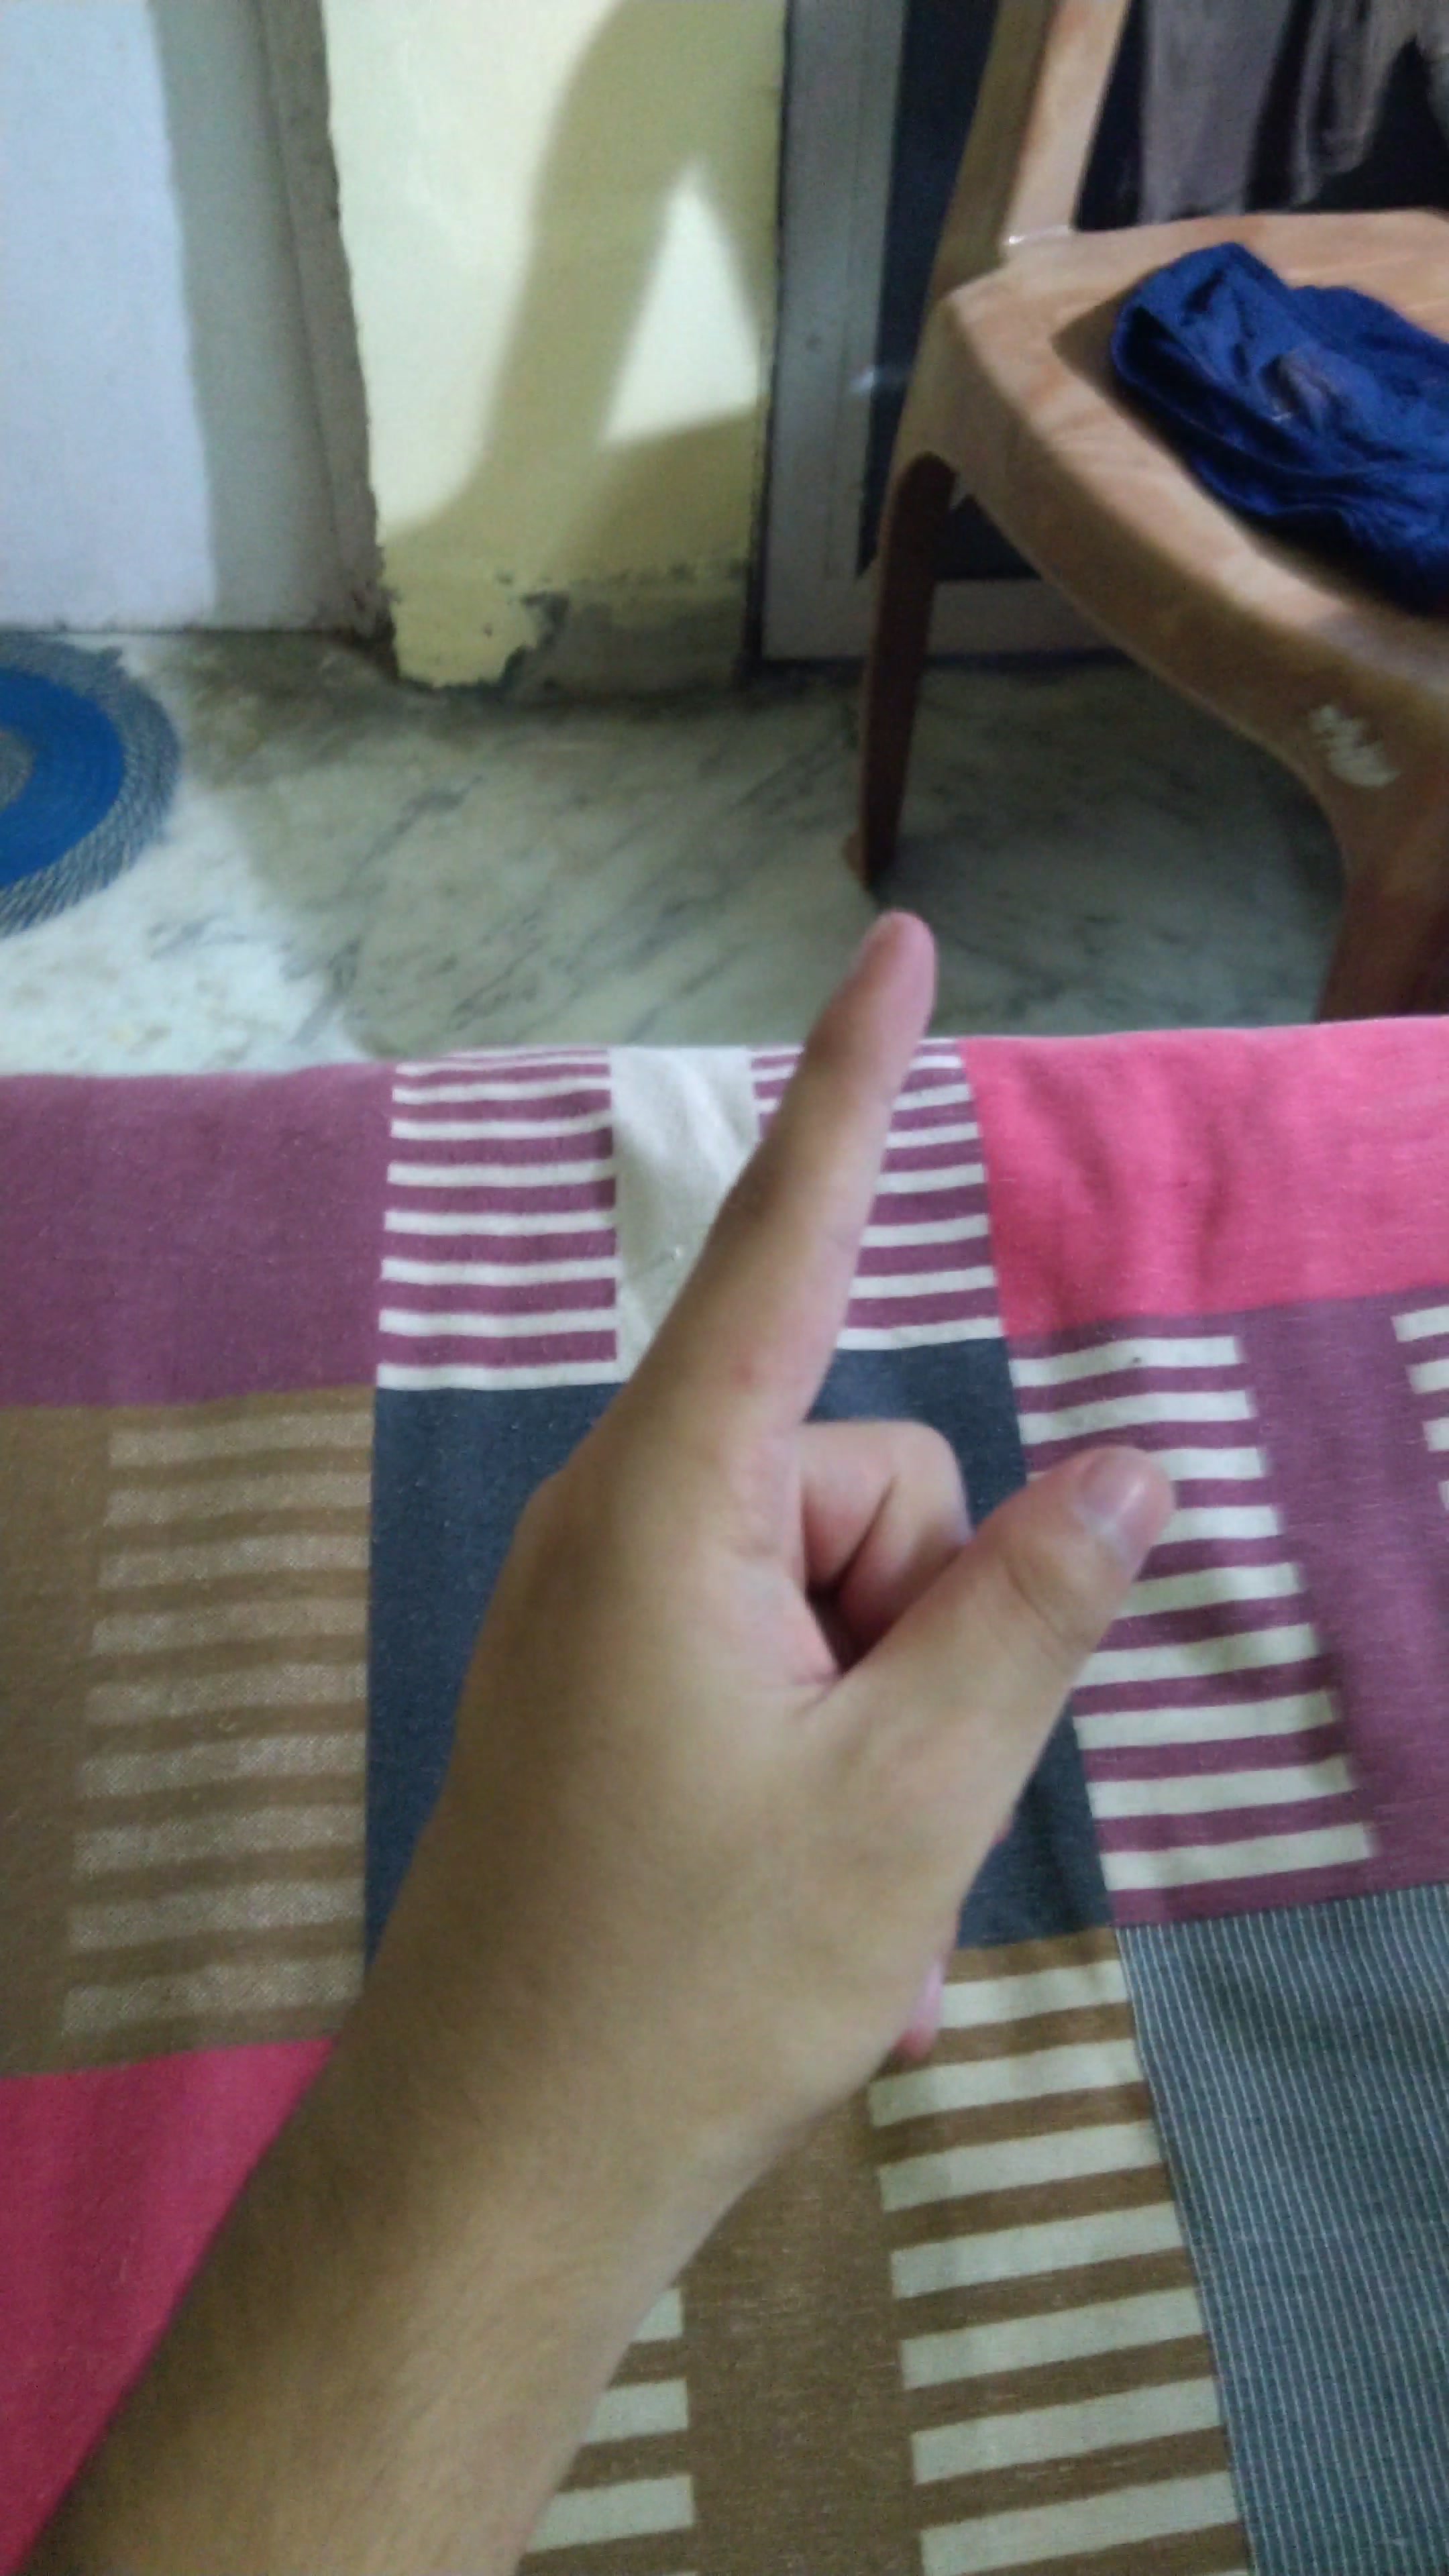hand: (320, 885, 1198, 2146)
